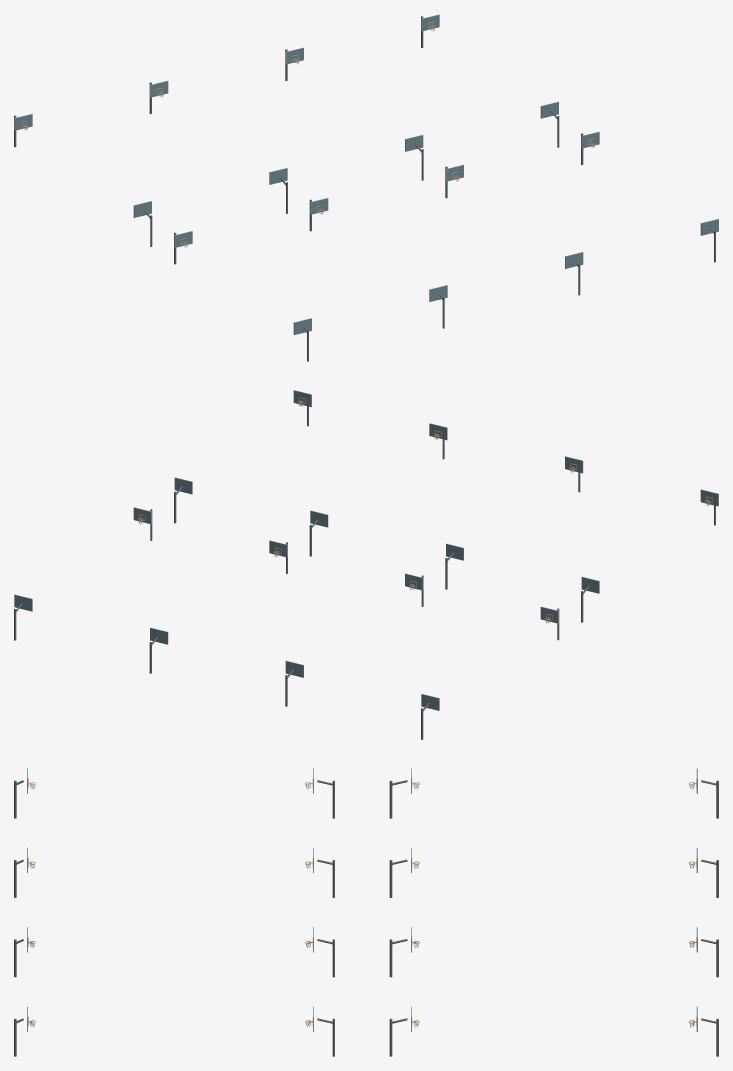
The picture shows the model from 3 angles, top to bottom: view 1: azimuth 30°, elevation 25°; view 2: azimuth 150°, elevation 25°; view 3: azimuth 270°, elevation 25°; orthographic projection. The views are drawn at different scales.
Parts seen in each view (by area): view 1: buildings_s_-3_-5_Recessed_Blue_Glass, buildings_s_-3_-5_Dark_Metal, buildings_s_-3_-5_Warm_Limestone; view 2: buildings_s_-3_-5_Recessed_Blue_Glass, buildings_s_-3_-5_Dark_Metal, buildings_s_-3_-5_Warm_Limestone; view 3: buildings_s_-3_-5_Dark_Metal, buildings_s_-3_-5_Warm_Limestone, buildings_s_-3_-5_Recessed_Blue_Glass.
Part boxes in pixels (<box>): buildings_s_-3_-5_Recessed_Blue_Glass: <box>15,14,718,334</box>; buildings_s_-3_-5_Dark_Metal: <box>14,16,715,361</box>; buildings_s_-3_-5_Warm_Limestone: <box>14,14,718,334</box>; buildings_s_-3_-5_Recessed_Blue_Glass: <box>14,390,718,710</box>; buildings_s_-3_-5_Dark_Metal: <box>14,406,715,739</box>; buildings_s_-3_-5_Warm_Limestone: <box>14,390,718,710</box>; buildings_s_-3_-5_Dark_Metal: <box>14,780,718,1056</box>; buildings_s_-3_-5_Warm_Limestone: <box>27,768,697,1031</box>; buildings_s_-3_-5_Recessed_Blue_Glass: <box>27,769,697,1031</box>.
Size of the model in its own units: 72.09 by 6.05 by 86.32.
